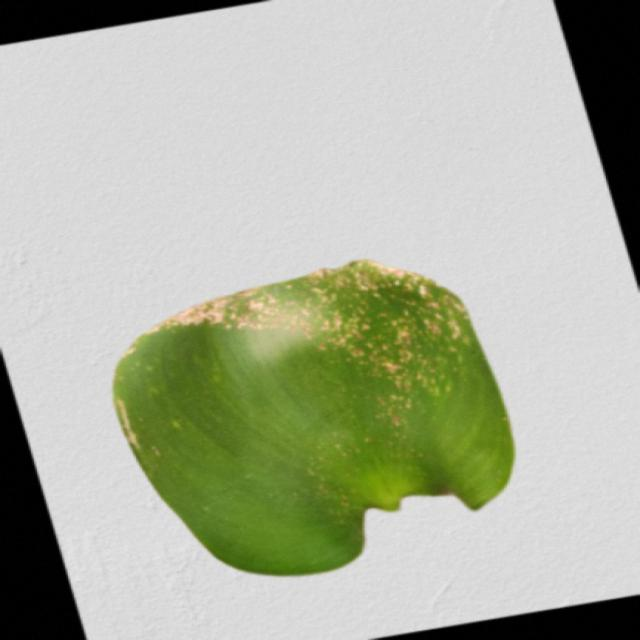daun berpenyakit bercak: (113, 260, 513, 575)
